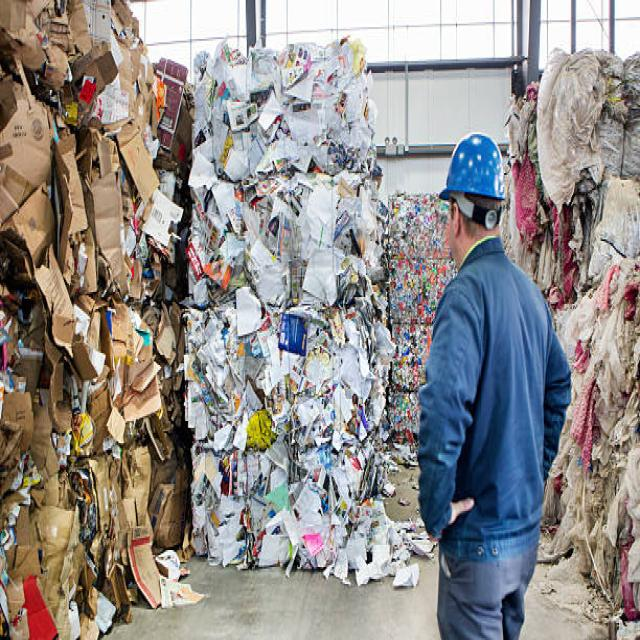cardboard: (9, 49, 172, 598)
paper: (197, 46, 371, 569)
trash: (529, 73, 637, 582)
